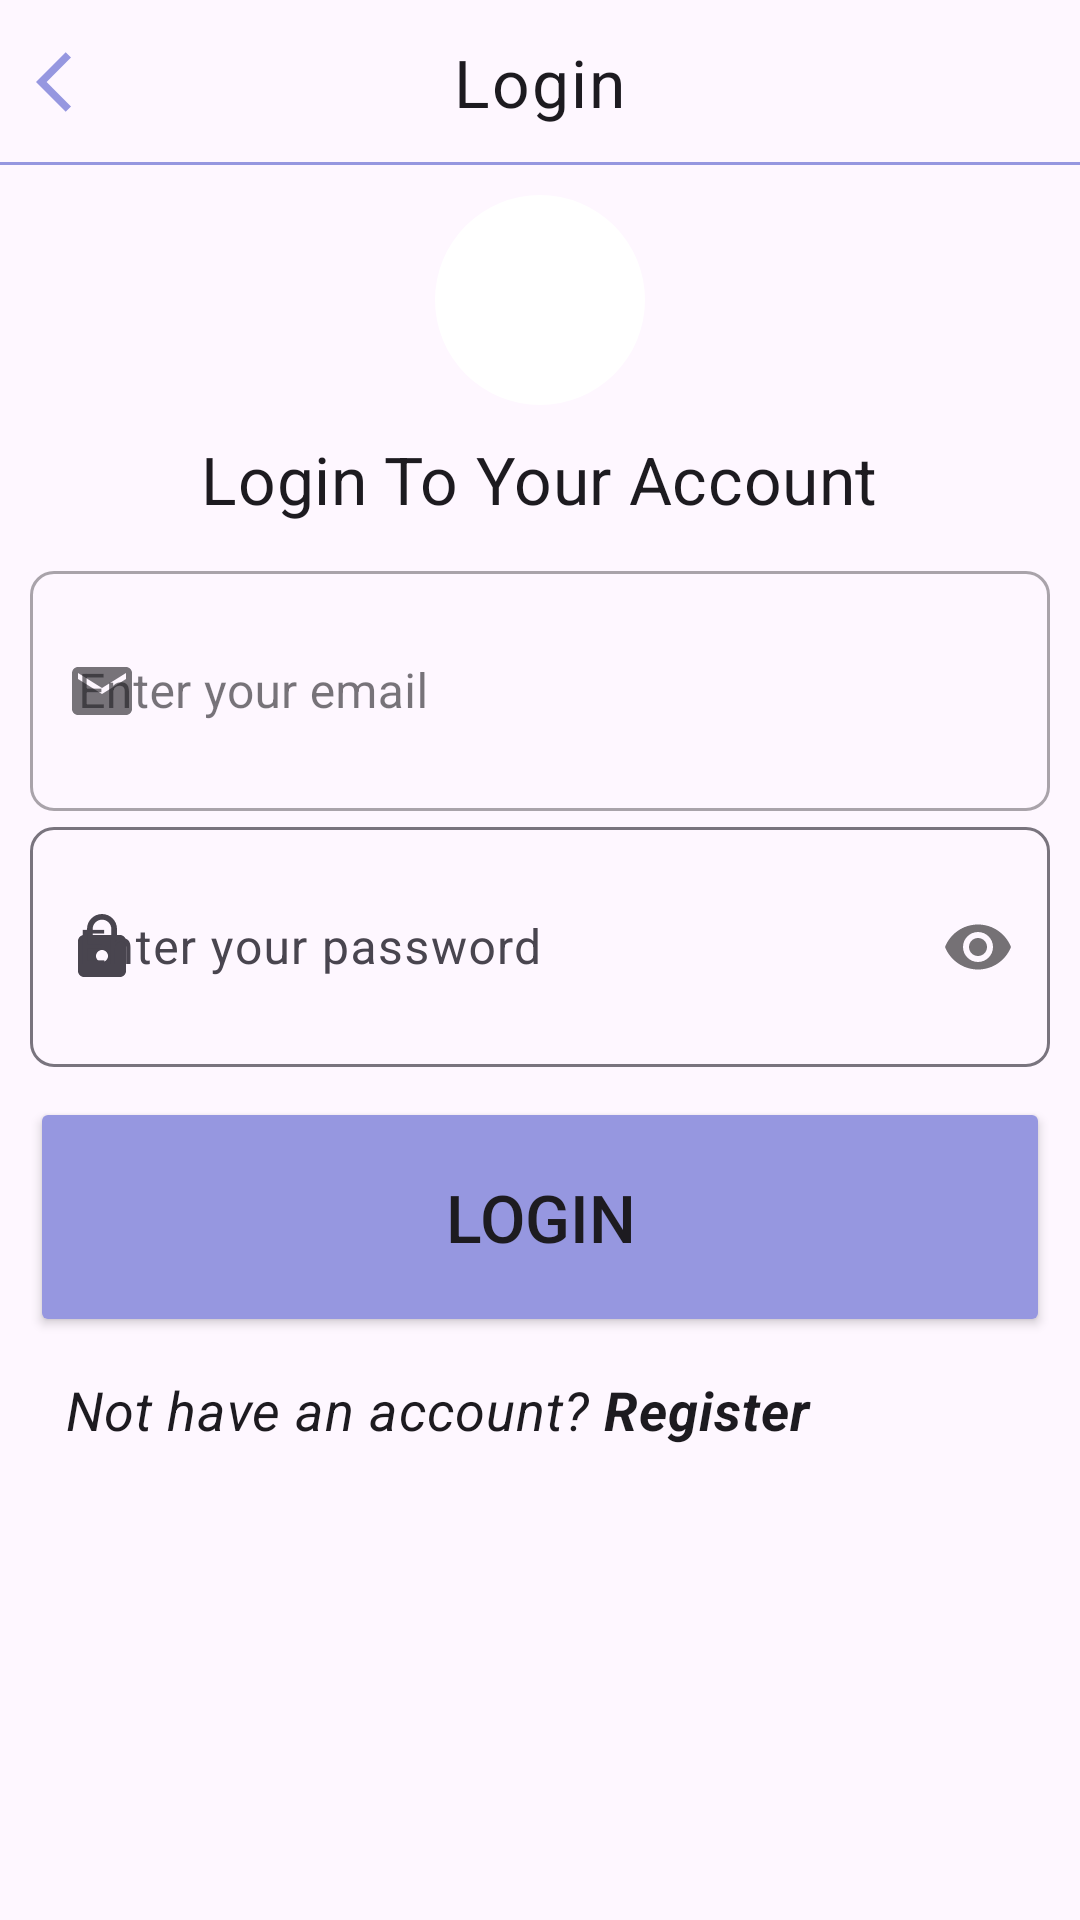

Where to tap for icons on this 1080w x 1920h app screen, as point (x, y):
Navigate back: point (53, 82)
